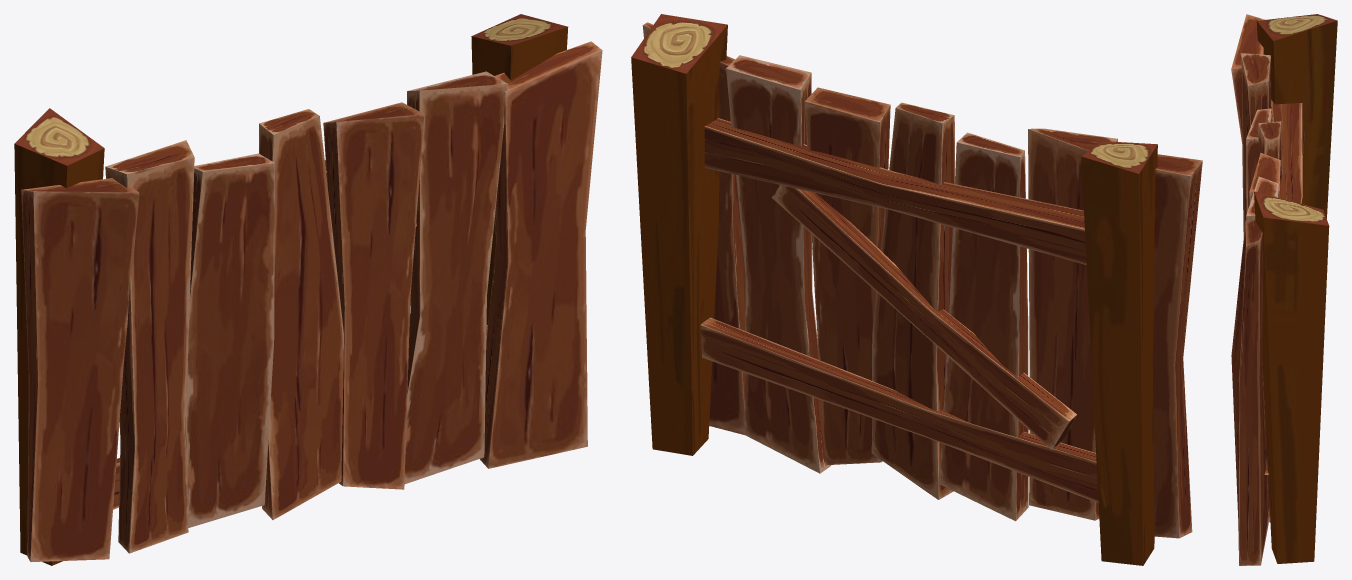
File: SM_PROP_fence_v01_02.glb
The picture shows the model from 3 angles, left to right: view 1: azimuth 30°, elevation 25°; view 2: azimuth 150°, elevation 25°; view 3: azimuth 270°, elevation 25°; orthographic projection. The views are drawn at different scales.
Visible parts, largest first — view 1: SM_PROP_fence_v01_02_EXPORT; view 2: SM_PROP_fence_v01_02_EXPORT; view 3: SM_PROP_fence_v01_02_EXPORT.
Boxes of the visible parts, x1,y1,x2,y2 form: SM_PROP_fence_v01_02_EXPORT: (14, 14, 602, 565); SM_PROP_fence_v01_02_EXPORT: (631, 14, 1202, 565); SM_PROP_fence_v01_02_EXPORT: (1231, 14, 1337, 565).
Bounding box in the file's own units: 2.82 × 2.01 × 0.5428.
3 materials, 3 textured.
